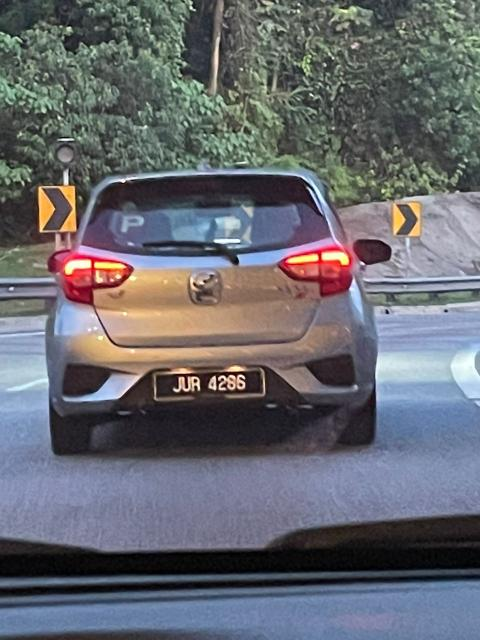License_Plate: (154, 371, 260, 402)
car: (44, 160, 384, 443)
